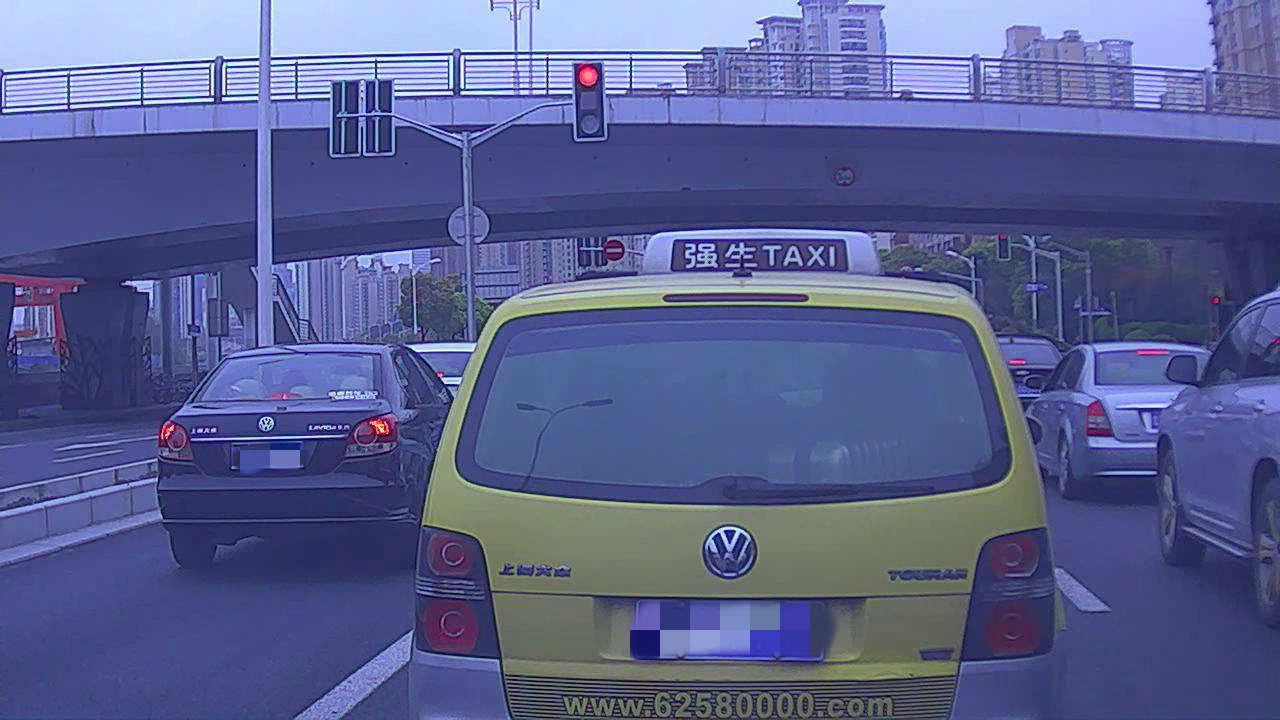traffic_light: (568, 63, 606, 141)
